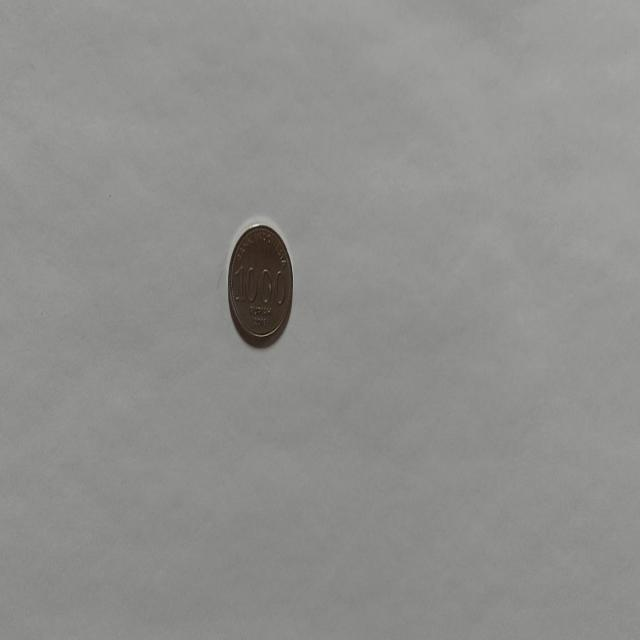seribu rupiah koin: (226, 220, 294, 348)
